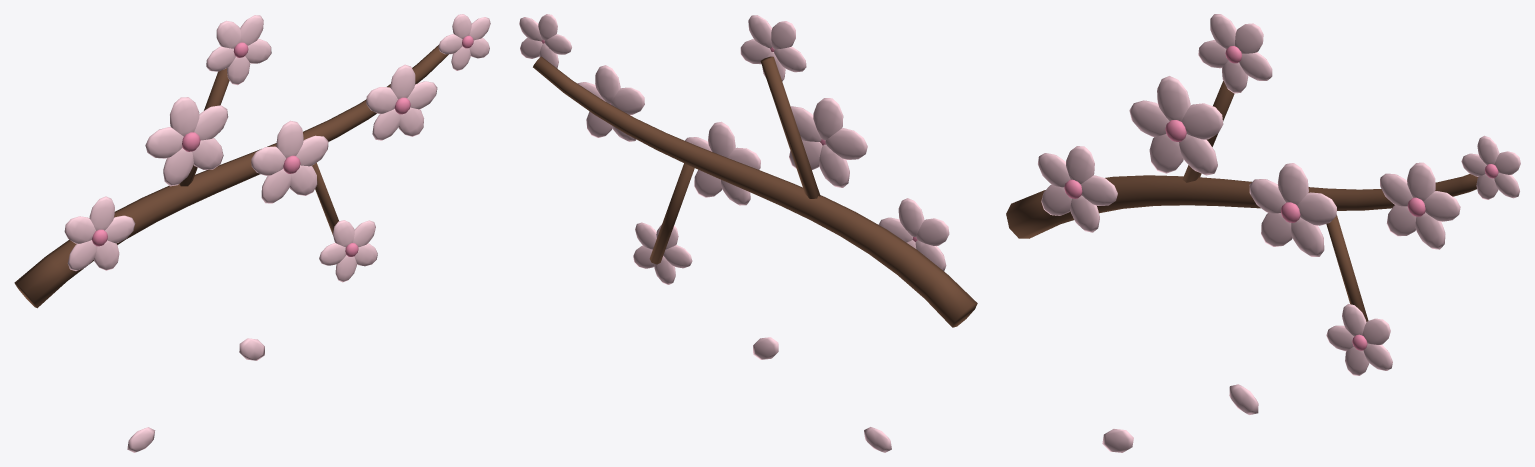
File: cherry-wall.glb
The picture shows the model from 3 angles, left to right: view 1: azimuth 30°, elevation 25°; view 2: azimuth 150°, elevation 25°; view 3: azimuth 330°, elevation 25°; orthographic projection. The views are drawn at different scales.
Visible parts, largest first — view 1: branch; view 2: branch; view 3: branch.
Part boxes in pixels (x1=…): branch: x1=14, y1=14, x2=490, y2=452; branch: x1=519, y1=14, x2=977, y2=452; branch: x1=1006, y1=14, x2=1520, y2=452.
Bounding box in the file's own units: 0.9148 × 0.7707 × 0.0881.
